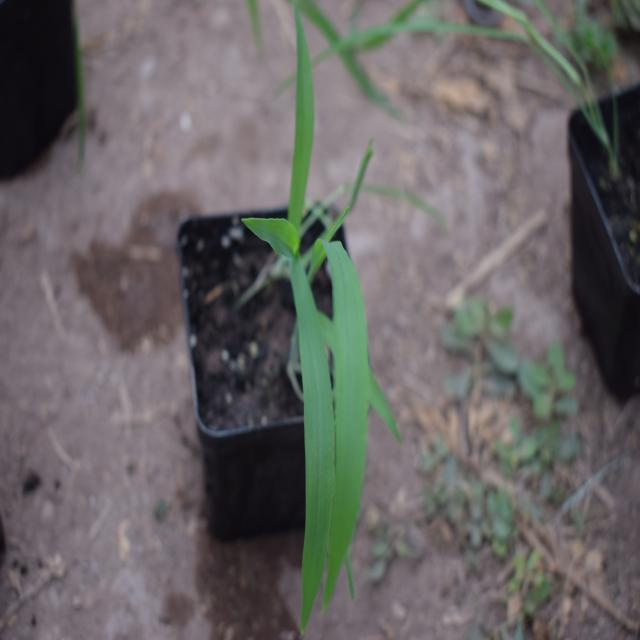crabgrass: (243, 56, 394, 612)
